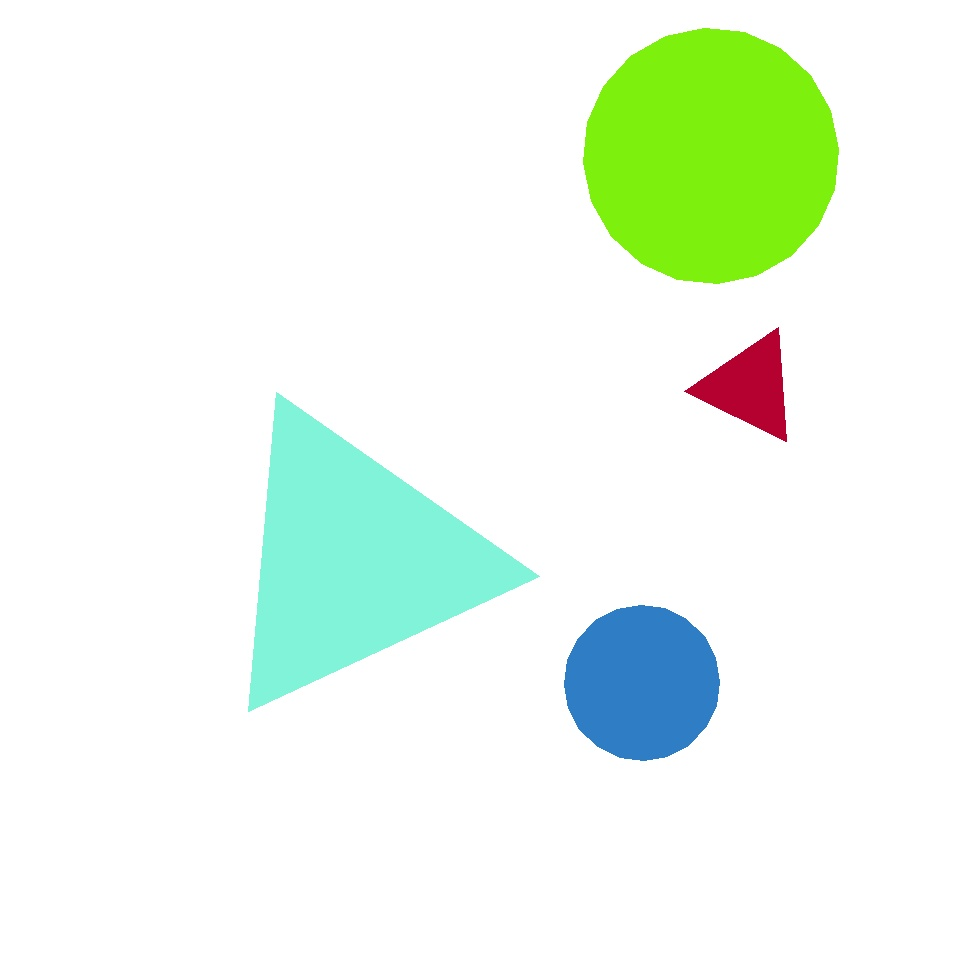circle: (210, 401, 500, 720), (711, 364, 933, 570), (423, 625, 549, 761), (699, 330, 801, 444)
square: (464, 620, 732, 888)
triangle: (236, 38, 560, 362), (376, 444, 648, 718), (584, 29, 838, 284), (702, 442, 920, 660), (564, 606, 719, 760)
